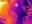Hotspot: (0, 0, 8, 16)
